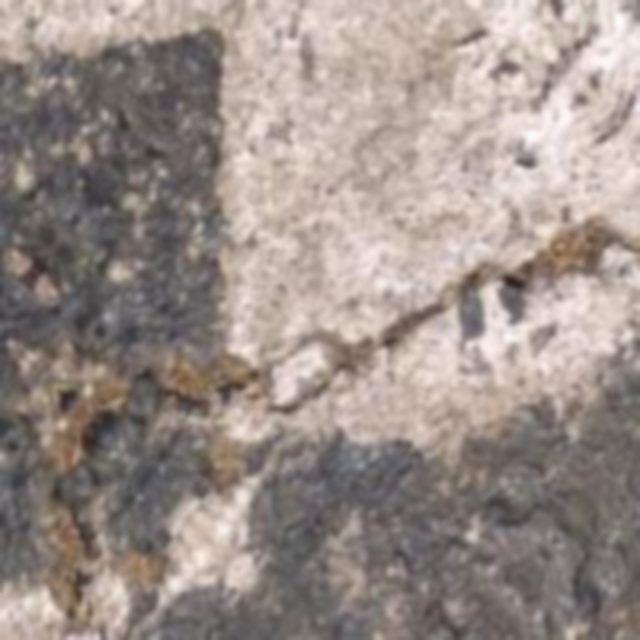SurfaceCrack: (286, 136, 640, 444)
